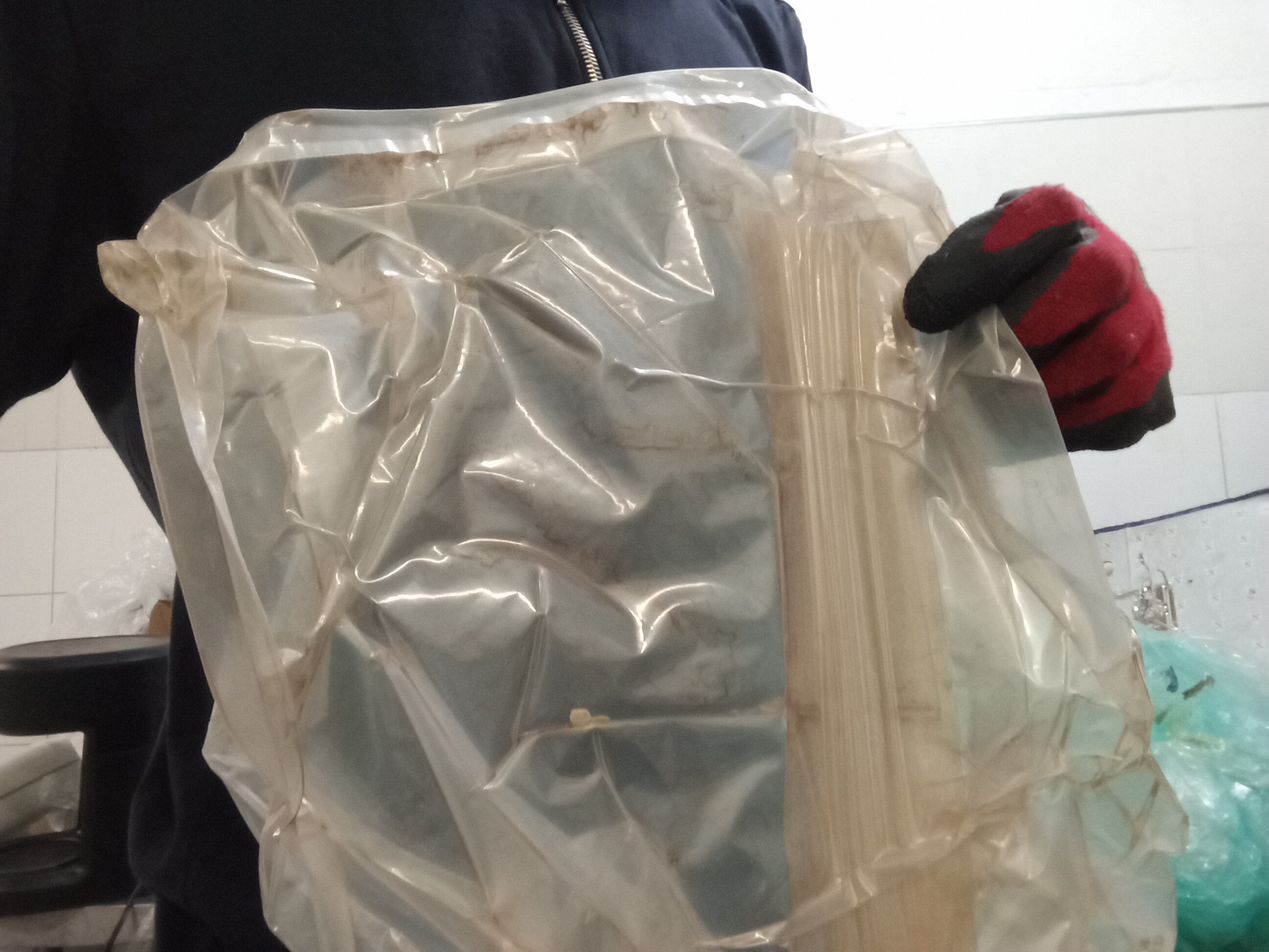Plastico: (97, 64, 1188, 952)
